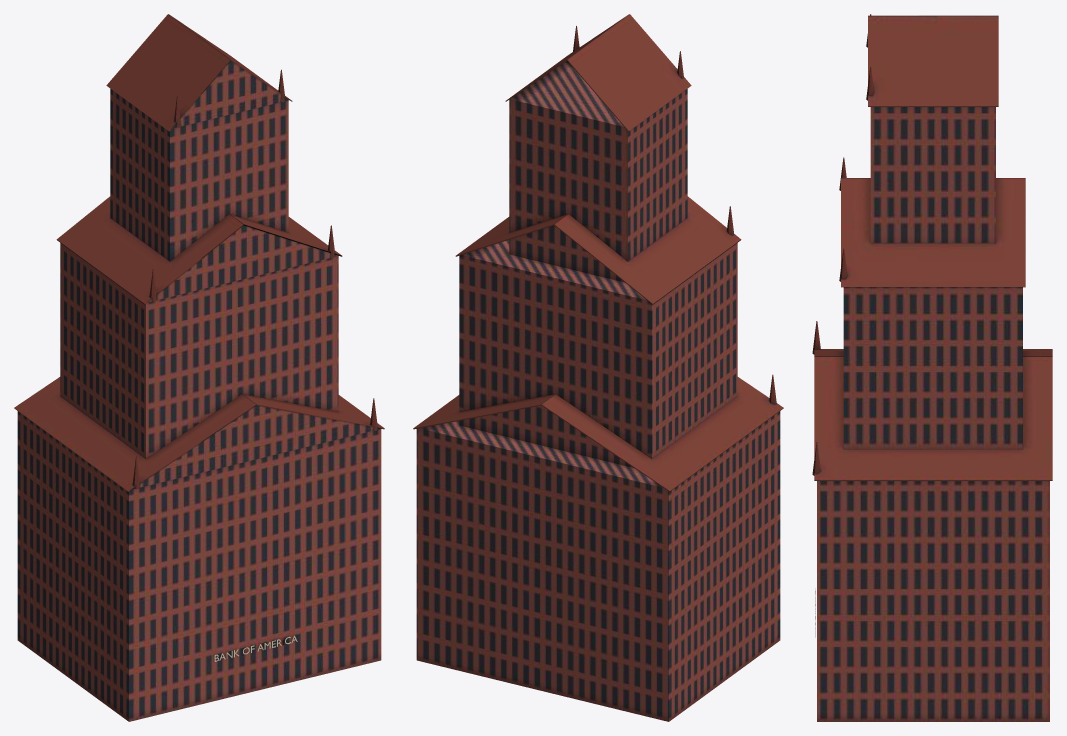
File: bank_of_america_hou.glb
The picture shows the model from 3 angles, left to right: view 1: azimuth 30°, elevation 25°; view 2: azimuth 150°, elevation 25°; view 3: azimuth 270°, elevation 25°; orthographic projection. The views are drawn at different scales.
Parts seen in each view (by area): view 1: bank_of_america_hou; view 2: bank_of_america_hou; view 3: bank_of_america_hou.
Part boxes in pixels (bbox=[...]): bank_of_america_hou: bbox=[14, 14, 384, 721]; bank_of_america_hou: bbox=[413, 14, 783, 721]; bank_of_america_hou: bbox=[812, 14, 1052, 721].
Bounding box in the file's own units: 34.65 × 79.05 × 26.8.
1 material, 1 textured.
